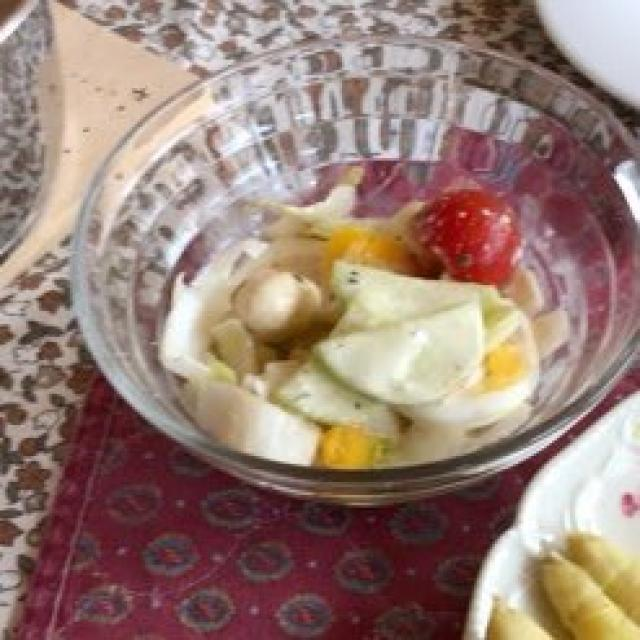cucumber: (251, 269, 522, 423)
egg: (309, 224, 547, 471)
tomato: (410, 186, 520, 271)
witloof-chicory: (149, 179, 371, 466)
